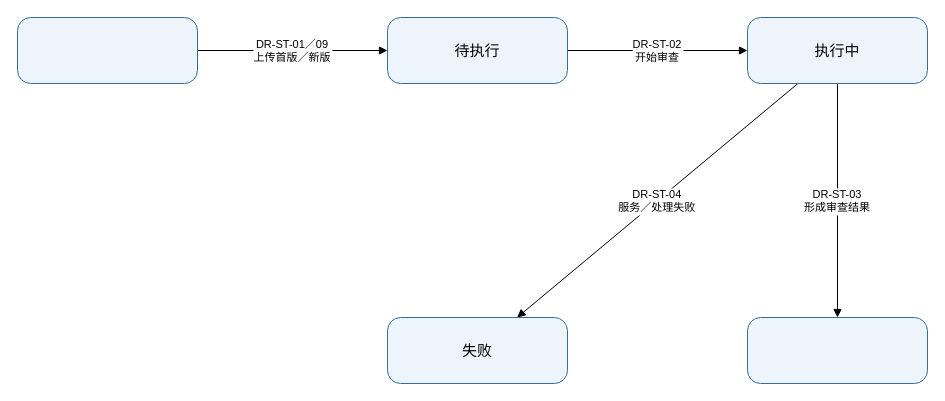
This 945x401 diagram has some shape labels left out. The shapes that lost their labels are listed below. From the top down, each one's centre as x and y in pixels, then its label:
point (107, 50): 未开始
point (837, 350): 已完成
